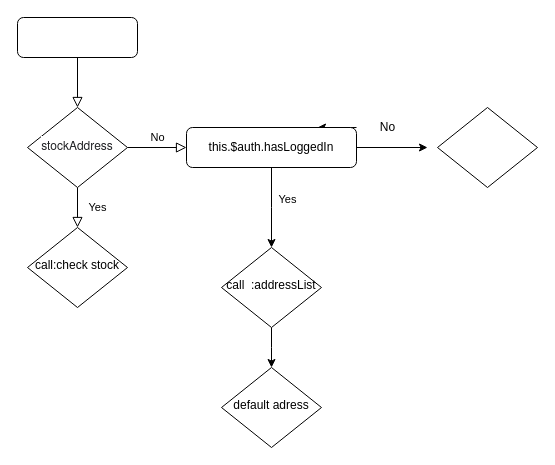
The diagram is 555 pixels wide and 465 high, and some of its shapes have lost their labels. Each missing label, with the box of its shape:
check-stock ：params: (16, 16, 138, 58)
ip check: (436, 106, 538, 188)
